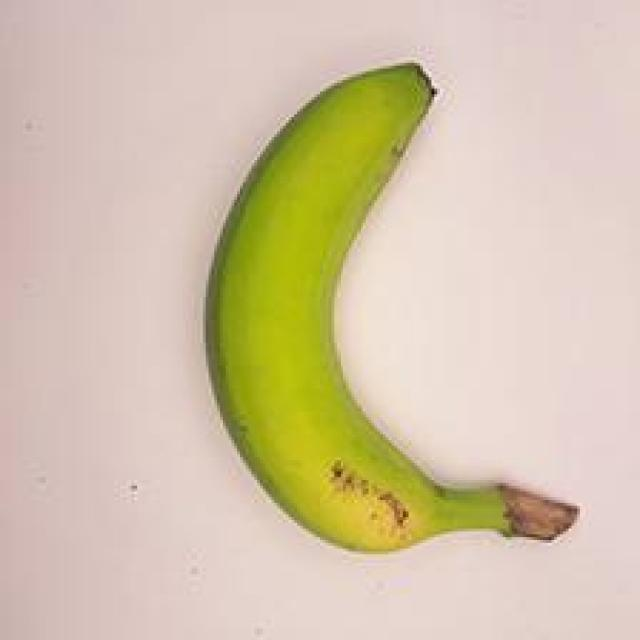Unripe: (160, 34, 585, 570)
